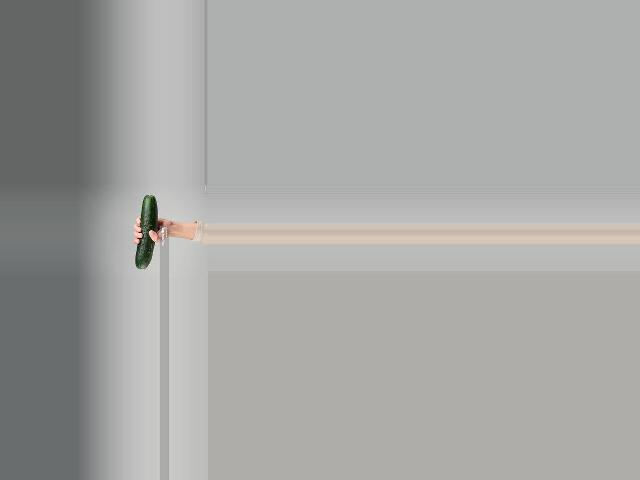cucumber: (135, 196, 157, 269)
